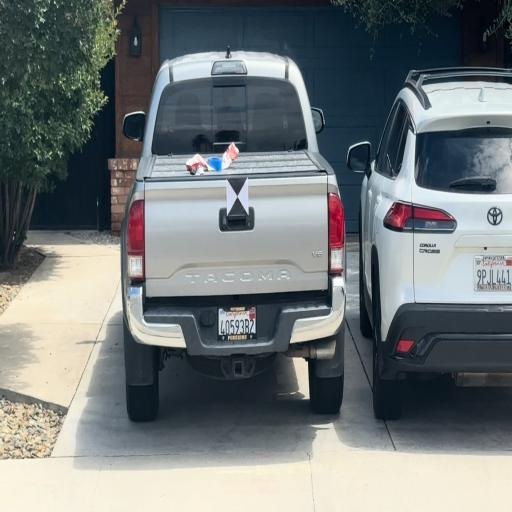target: (226, 180, 248, 216)
